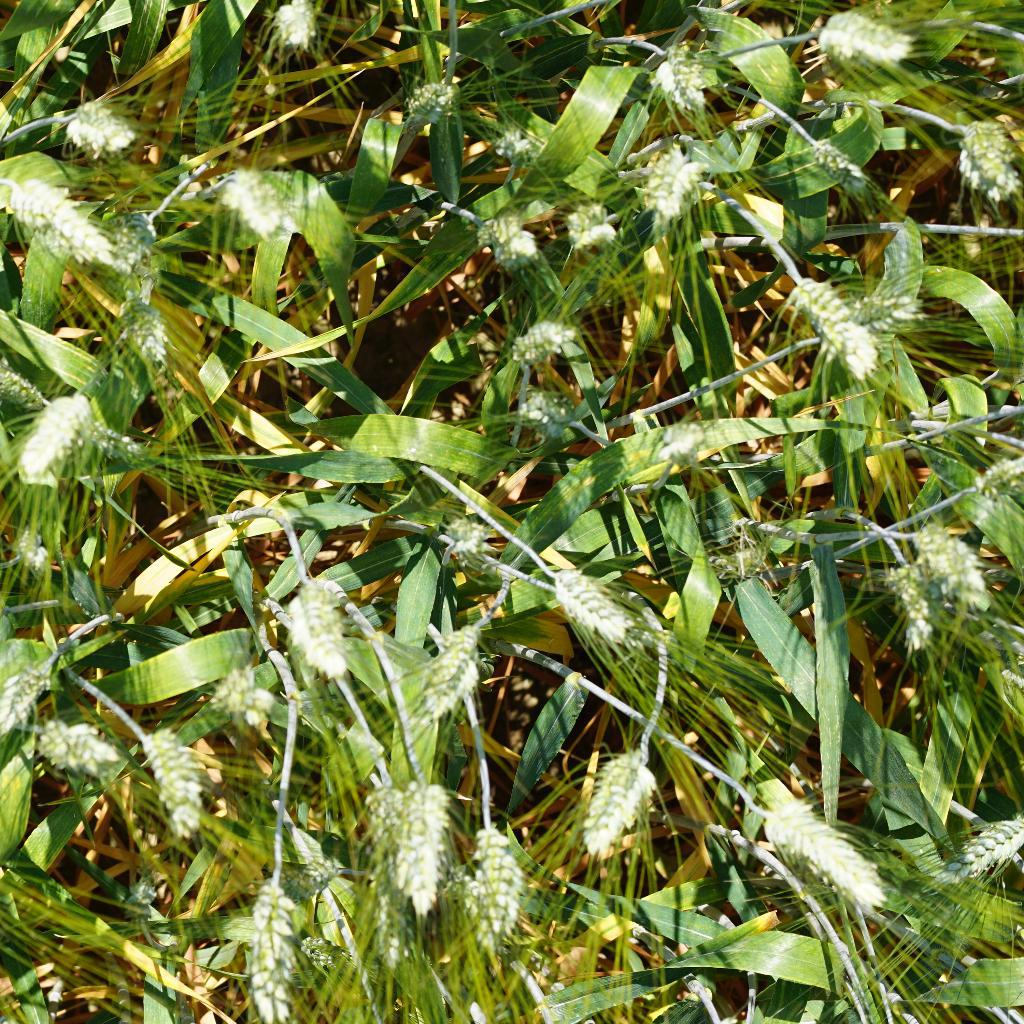0-0: (750, 795, 896, 918), (0, 167, 126, 279), (780, 266, 888, 376), (456, 806, 537, 944), (579, 739, 664, 867), (238, 878, 310, 1024), (388, 763, 452, 923), (12, 378, 101, 493), (541, 560, 643, 657), (617, 126, 713, 228), (137, 718, 212, 841), (935, 792, 1024, 889), (811, 130, 909, 216), (353, 849, 419, 976), (945, 111, 1023, 217), (811, 3, 923, 74), (411, 620, 490, 720), (277, 582, 355, 679), (912, 522, 993, 615), (0, 661, 73, 758), (36, 699, 116, 787), (112, 279, 178, 384), (219, 163, 296, 253), (58, 407, 160, 474), (384, 63, 473, 135), (190, 657, 280, 728), (879, 560, 942, 656), (55, 93, 141, 160), (492, 305, 586, 366), (515, 374, 579, 456), (649, 33, 716, 111), (460, 202, 541, 266), (96, 198, 168, 269), (848, 287, 938, 339), (273, 853, 347, 914), (557, 193, 626, 254), (432, 511, 515, 561), (263, 1, 323, 64), (290, 927, 362, 979), (646, 419, 710, 475), (0, 340, 49, 408), (971, 441, 1024, 498), (713, 534, 774, 581), (11, 522, 53, 583), (488, 123, 545, 163), (121, 869, 154, 928)
